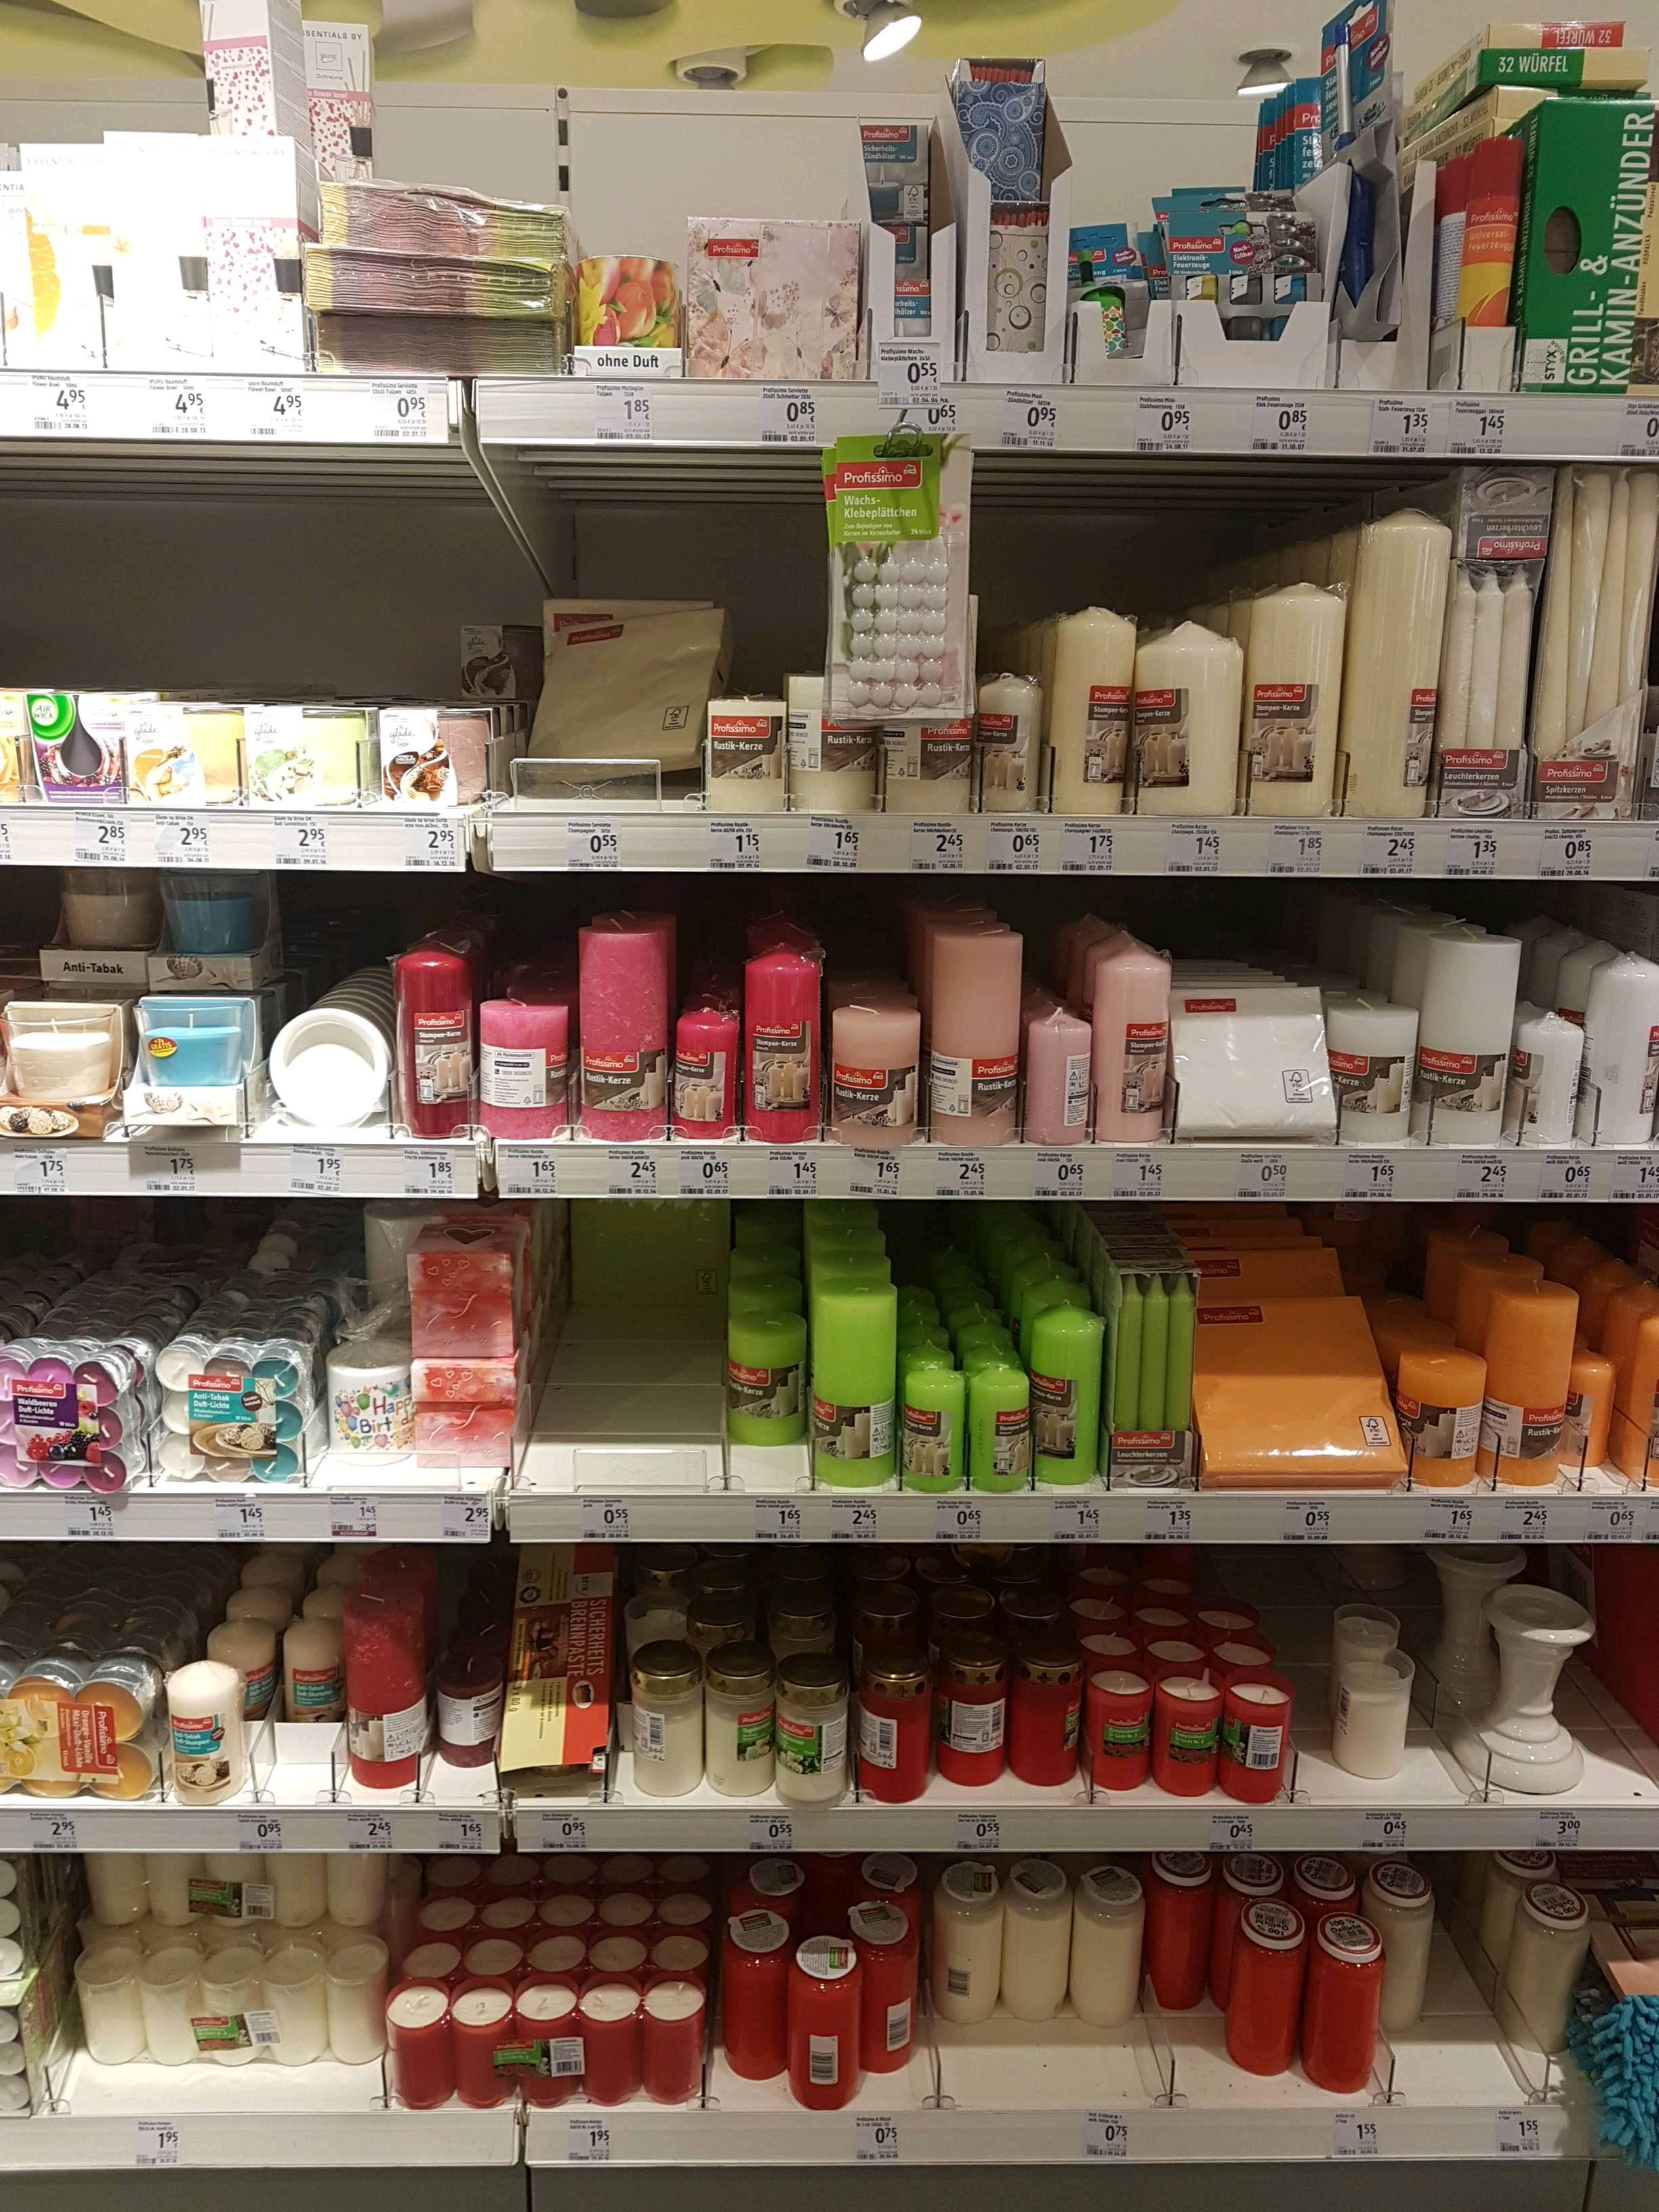empty: (540, 1219, 720, 1491), (507, 669, 678, 808), (929, 1937, 1028, 2104), (1028, 1937, 1127, 2102), (1408, 1930, 1507, 2095), (152, 1998, 247, 2125), (1176, 1980, 1272, 2107), (244, 1670, 338, 1797), (61, 1991, 155, 2118), (251, 1987, 345, 2114)
